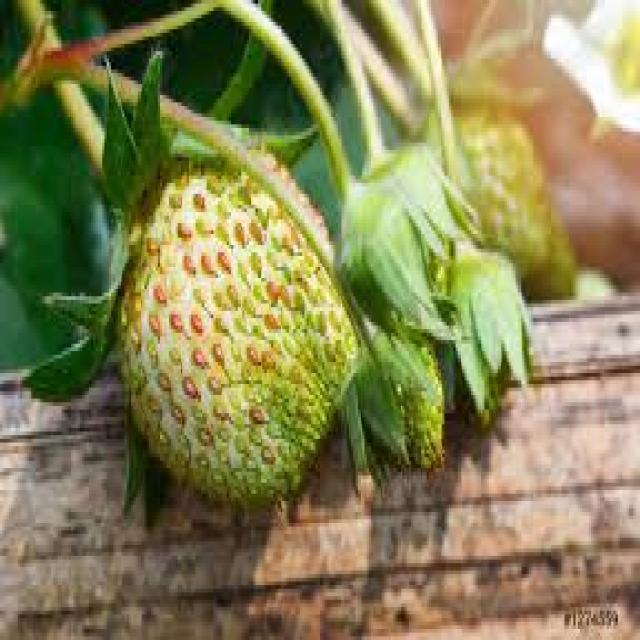strawberry: (118, 171, 358, 504)
